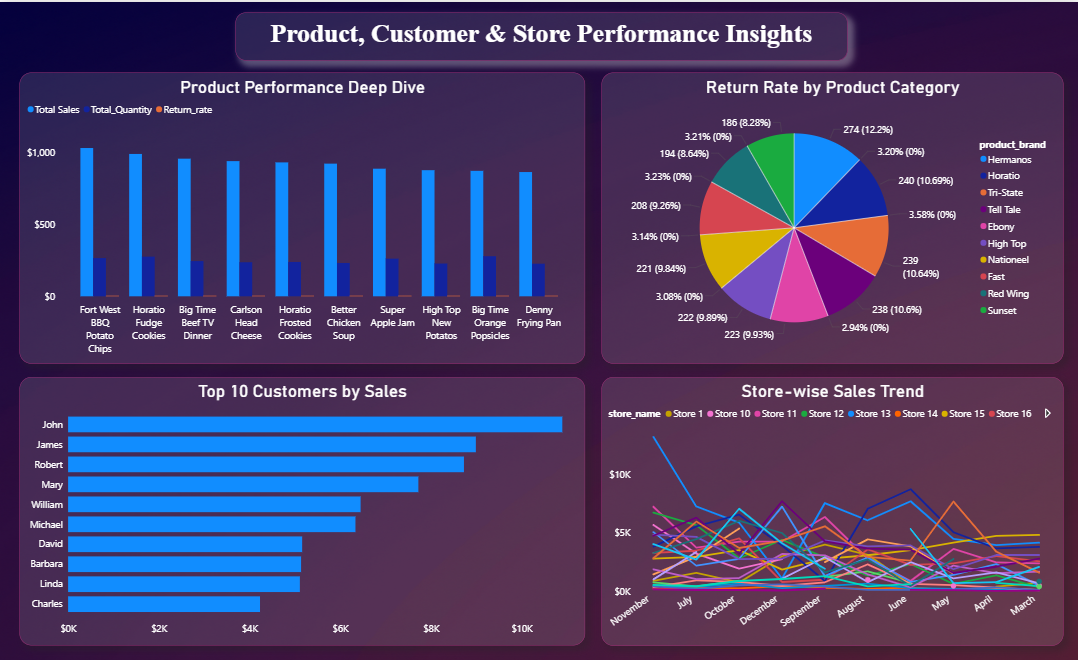

Layout of this report page (visuals, bound fields, positions):
{"tool":"powerbi","page":{"name":"Page 2","canvas":[1800,1100],"ordinal":1},"visuals":[{"type":"textbox","box":[392.5,17.5,1020,80],"z":0},{"type":"clusteredColumnChart","title":"Product Performance Deep Dive","fields":{"Category":["Products.product_name"],"Y":["Products.Total Sales","Products.Total_Quantity","Products.Return_rate"]},"box":[32.5,117.5,942.5,485],"z":1000},{"type":"barChart","title":"Top 10 Customers by Sales","fields":{"Y":["Products.Total Sales"],"Category":["Customer.first_name"]},"box":[32.5,625,942.5,447.5],"z":2000},{"type":"pieChart","title":"Return Rate by Product Category","fields":{"Category":["Products.product_brand"],"Y":["Products.Return_count","Products.Return_rate"]},"box":[1002.5,117.5,770,485],"z":3000},{"type":"lineChart","title":"Store-wise Sales Trend","fields":{"Category":["Calendar.Month Name"],"Y":["Products.Total Sales"],"Series":["Stores.store_name"]},"box":[1003,625,770,448],"z":4000}]}

Visuals, with their boxes in screenshot pixels (x1, y1, x2, y2), scaled from the page's 1800x1100 canvas onto the 1078x660 screenshot:
textbox: crop(235, 10, 846, 58)
"Product Performance Deep Dive" clusteredColumnChart: crop(19, 70, 584, 362)
"Top 10 Customers by Sales" barChart: crop(19, 375, 584, 644)
"Return Rate by Product Category" pieChart: crop(600, 70, 1062, 362)
"Store-wise Sales Trend" lineChart: crop(601, 375, 1062, 644)
